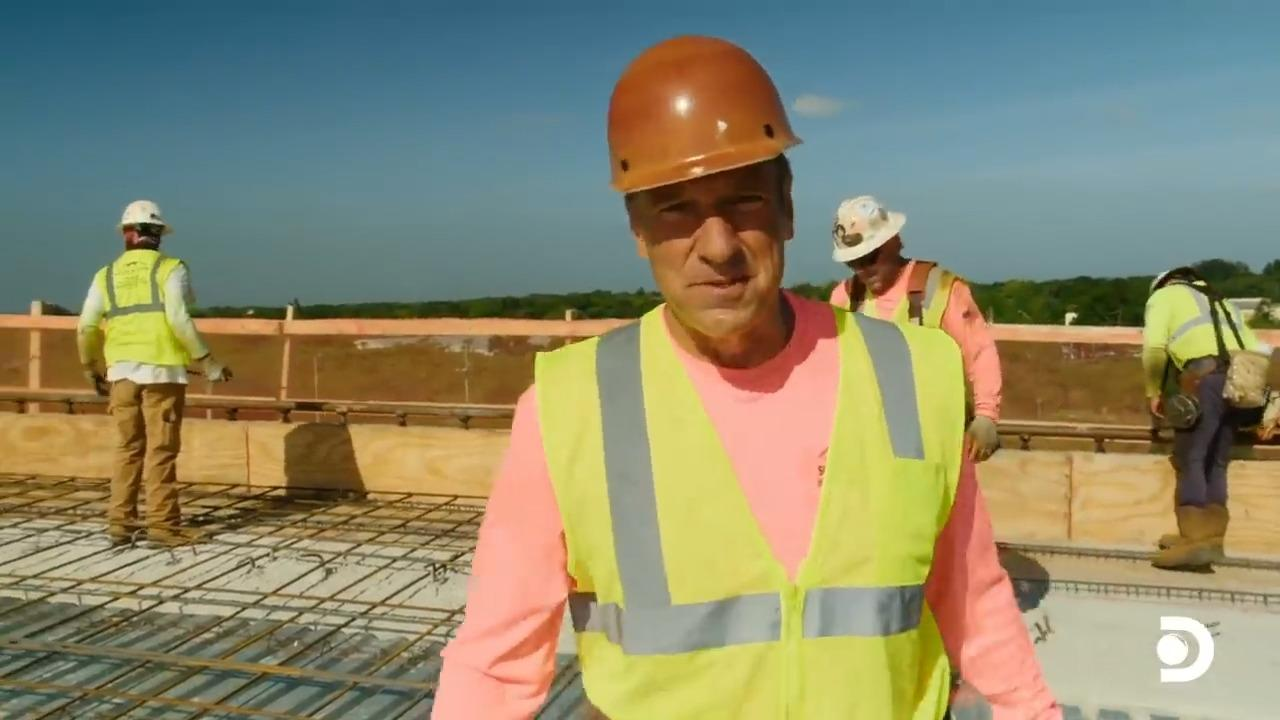Gloves: (961, 412, 999, 464), (194, 349, 226, 388), (81, 365, 112, 398)
Helmet: (606, 34, 803, 194), (830, 194, 906, 263), (116, 199, 172, 235)
Person: (429, 33, 1065, 719), (75, 199, 233, 548), (827, 194, 1003, 463), (1140, 265, 1267, 572)
Safety Boot: (1156, 522, 1221, 567), (144, 527, 203, 552), (108, 527, 139, 546)
Safety Vest: (540, 359, 925, 720), (95, 269, 194, 366), (850, 280, 952, 332), (1161, 290, 1232, 361)
bare-arms: (1148, 389, 1165, 421)
